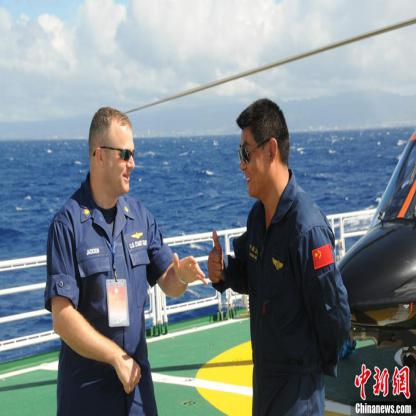face: (106, 130, 136, 195), (242, 131, 269, 202)
